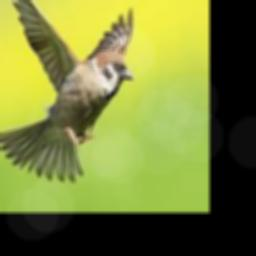Sparrow: (0, 0, 133, 183)
